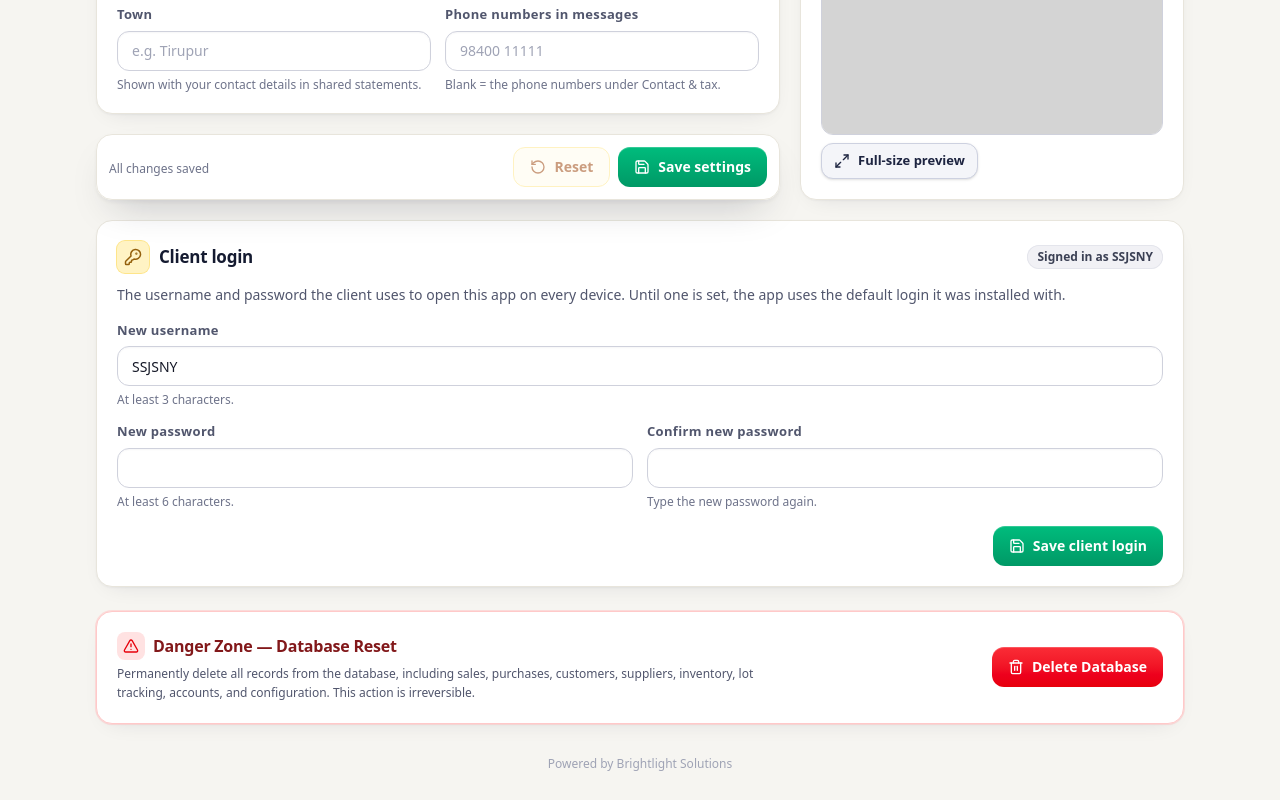
Scenario: Settings page — client login (administrator) › new passwords that do not match are refused
This screenshot has width=1280, height=800.
(page scrolled)
Type "secret123" into the password field labelled "New password". click: (375, 468)
box: [117,448,633,488]
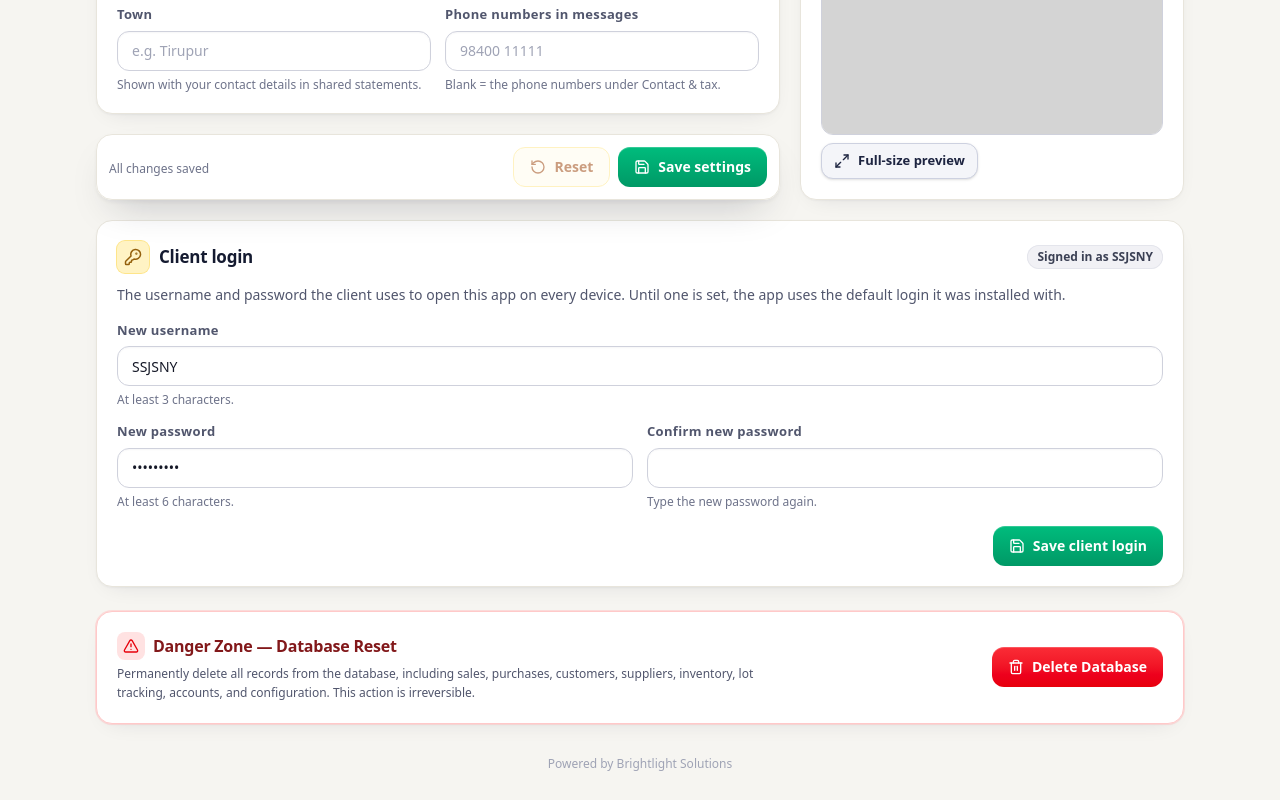
Type "secret124" into the password field labelled "Confirm new password". click: (905, 468)
box: [647,448,1163,488]
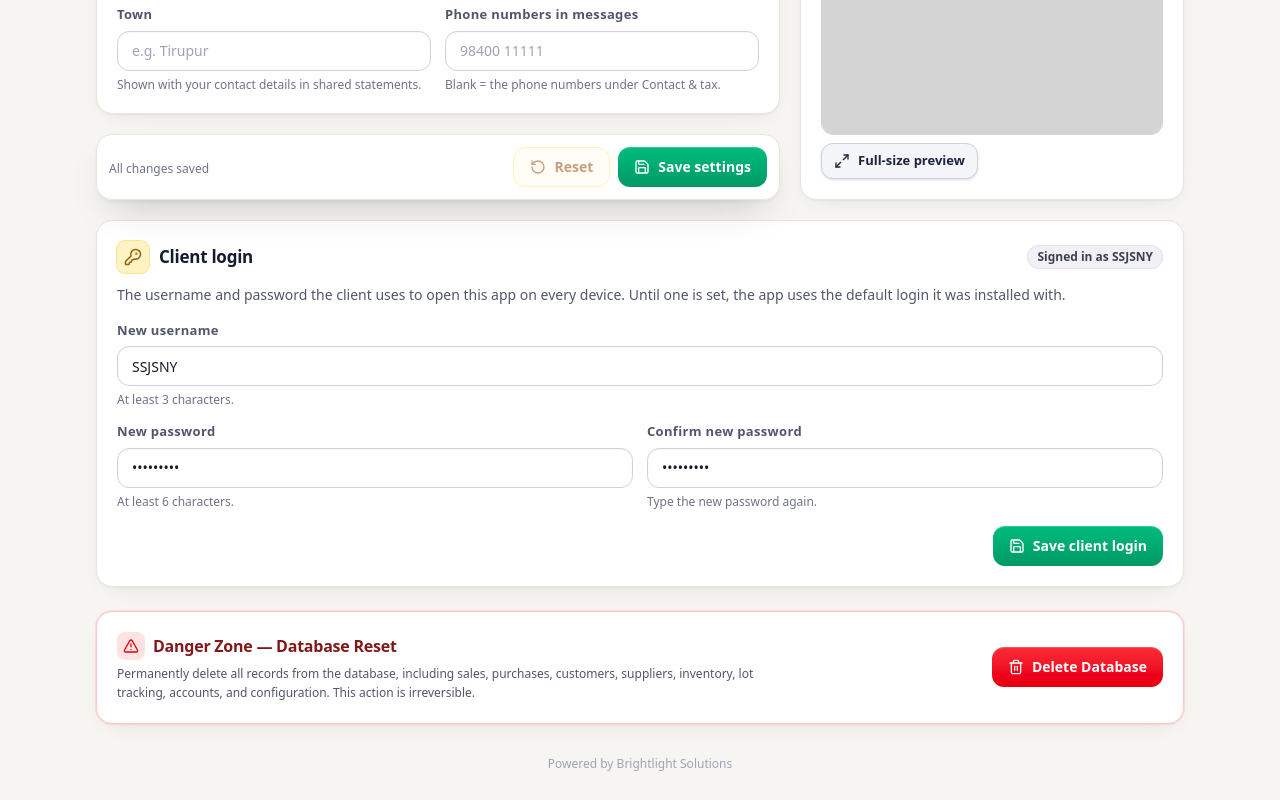
Click the button "Save client login". click: (1078, 546)
box: [993,526,1163,566]
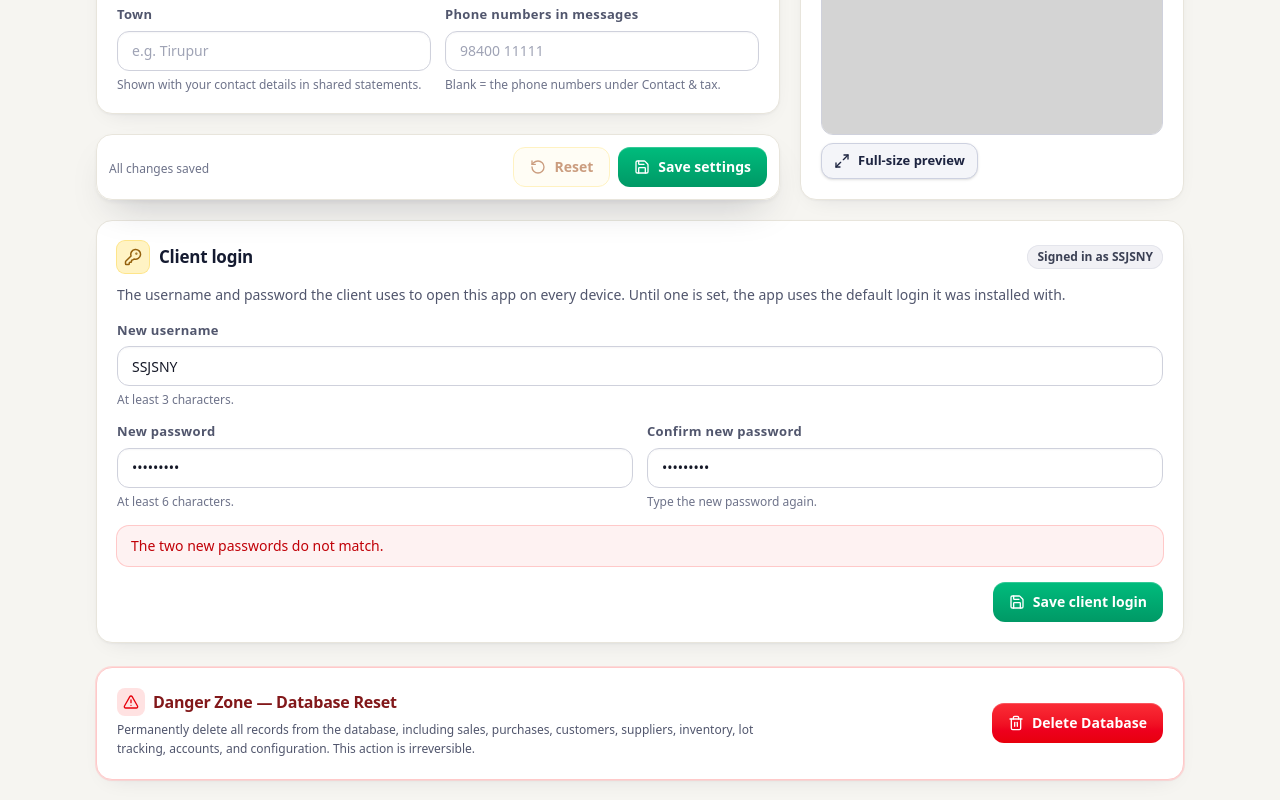
Result: the text "The two new passwords do not match." is shown at [117,526,1163,566]
